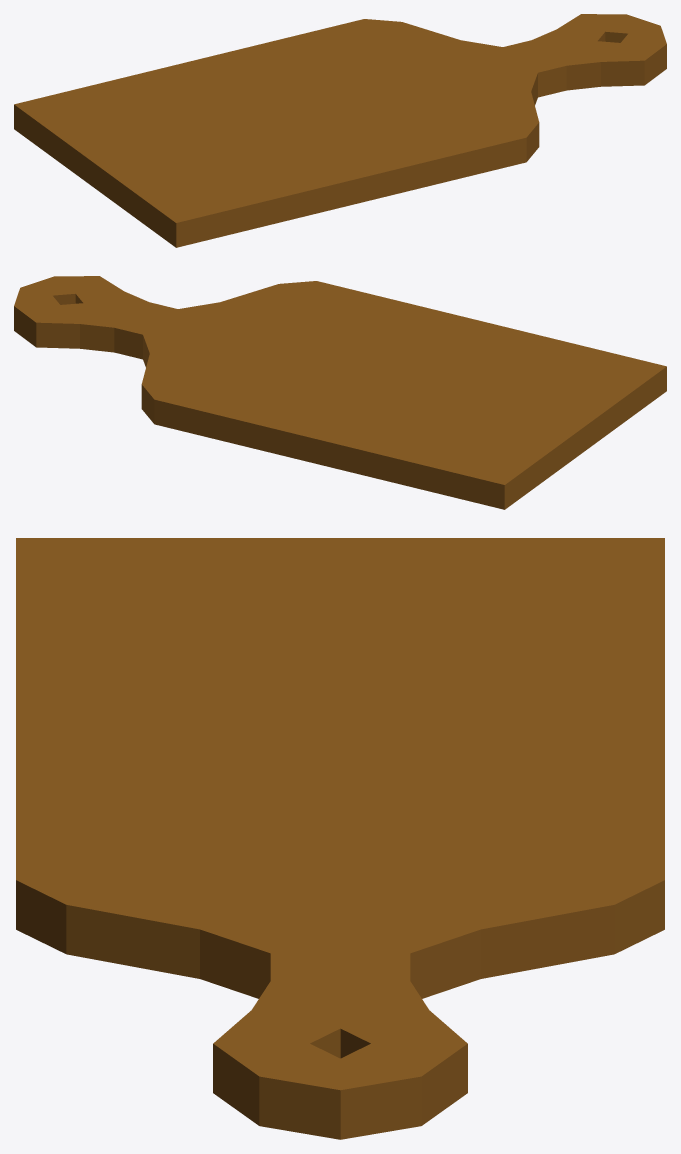
The model's file is talenan.fbx.
3 views of the same model, one above another, from view 1: azimuth 30°, elevation 25°; view 2: azimuth 150°, elevation 25°; view 3: azimuth 270°, elevation 25° (orthographic). The views are drawn at different scales.
Visible parts, largest first — view 1: talenan; view 2: talenan; view 3: talenan.
Part boxes in pixels (<box>): talenan: <box>14,14,666,247</box>; talenan: <box>14,276,666,509</box>; talenan: <box>16,538,664,1139</box>.
Size of the model in its own units: 68.1 by 2.85 by 33.81.
